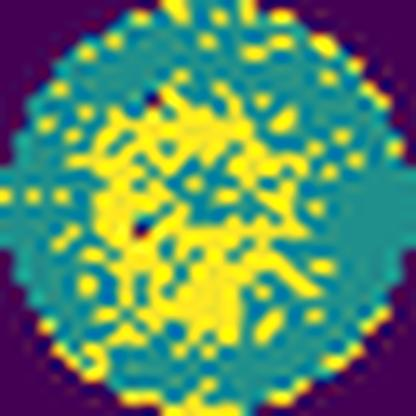Donut: (73, 67, 333, 352)
